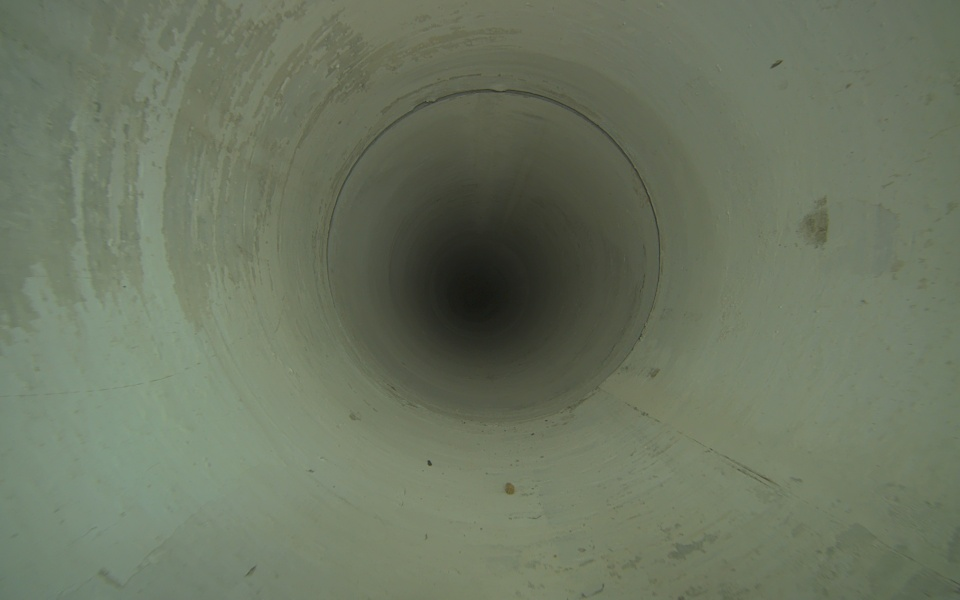circle1: (322, 85, 665, 427)
circle2: (451, 267, 504, 322)
